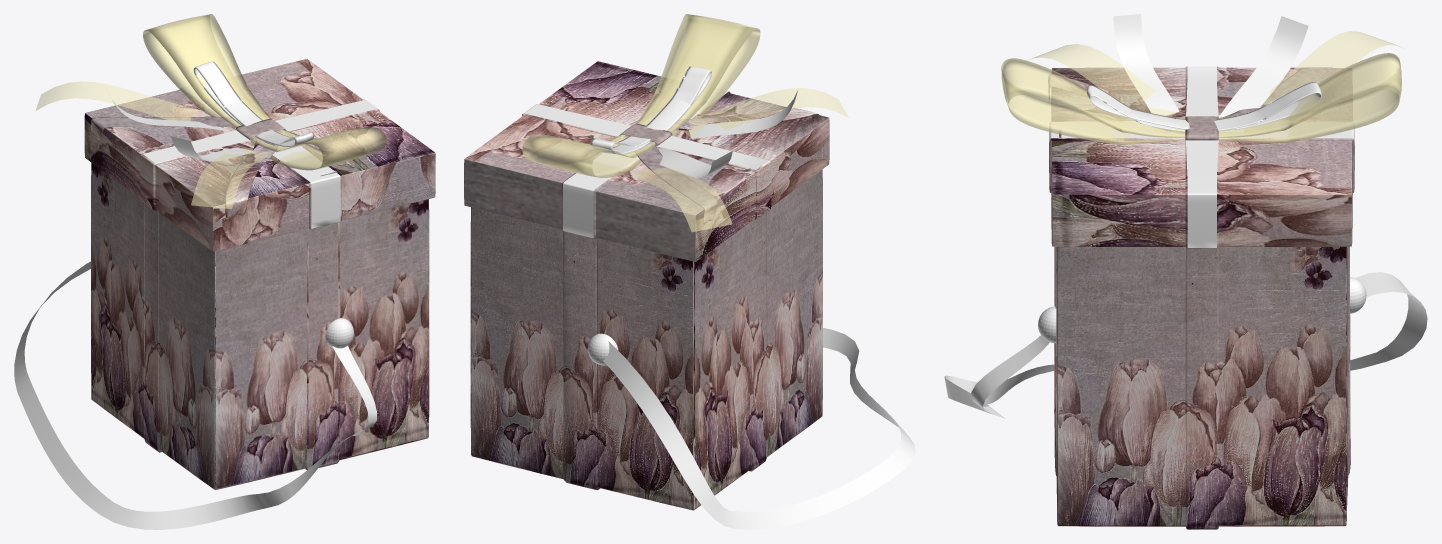
The model's file is cajita1_NoComp.glb.
3 views of the same model, side by side, from view 1: azimuth 30°, elevation 25°; view 2: azimuth 150°, elevation 25°; view 3: azimuth 270°, elevation 25° (orthographic). The views are drawn at different scales.
Visible parts, largest first — view 1: polySurface13, polySurface8, BezierCurve.004, polySurface8.003, polySurface8.005, polySurface8.004, BezierCurve.003, BezierCurve.002, polySurface8.001, BezierCurve.001, Sphere, BezierCurve (+1 smaller); view 2: polySurface13, polySurface8, BezierCurve.004, polySurface8.004, polySurface8.005, polySurface8.003, BezierCurve.002, BezierCurve.003, polySurface8.002, BezierCurve.001, BezierCurve, polySurface8.001 (+1 smaller); view 3: polySurface13, polySurface8, polySurface8.005, polySurface8.003, polySurface8.004, BezierCurve.004, BezierCurve.002, BezierCurve, BezierCurve.003, BezierCurve.001, polySurface8.001, polySurface8.002 (+1 smaller).
Boxes of the visible parts, x1,y1,x2,y2 form: polySurface13: [91, 163, 429, 490]; polySurface8: [84, 59, 435, 251]; BezierCurve.004: [14, 261, 377, 529]; polySurface8.003: [143, 14, 271, 129]; polySurface8.005: [143, 86, 377, 228]; polySurface8.004: [250, 127, 386, 170]; BezierCurve.003: [35, 81, 198, 120]; BezierCurve.002: [191, 147, 271, 209]; polySurface8.001: [193, 61, 262, 125]; BezierCurve.001: [170, 136, 256, 161]; Sphere: [325, 318, 353, 348]; BezierCurve: [112, 100, 230, 131]; polySurface13: [470, 169, 822, 510]; polySurface8: [464, 61, 829, 261]; BezierCurve.004: [603, 328, 915, 529]; polySurface8.004: [636, 14, 760, 135]; polySurface8.005: [524, 89, 768, 238]; polySurface8.003: [522, 134, 656, 177]; BezierCurve.002: [683, 88, 848, 140]; BezierCurve.003: [630, 167, 732, 232]; polySurface8.002: [645, 66, 711, 141]; BezierCurve.001: [689, 90, 797, 138]; BezierCurve: [659, 148, 732, 177]; polySurface8.001: [590, 136, 650, 154]; polySurface13: [1054, 246, 1350, 529]; polySurface8: [1048, 66, 1354, 248]; polySurface8.005: [1049, 66, 1354, 247]; polySurface8.003: [1218, 53, 1401, 143]; polySurface8.004: [1001, 58, 1185, 144]; BezierCurve.004: [944, 272, 1427, 418]; BezierCurve.002: [1027, 44, 1181, 116]; BezierCurve: [1218, 16, 1308, 118]; BezierCurve.003: [1263, 31, 1404, 104]; BezierCurve.001: [1113, 14, 1179, 115]; polySurface8.001: [1214, 82, 1321, 131]; polySurface8.002: [1086, 85, 1246, 132].
Bounding box in the file's own units: 1.53 × 1.65 × 1.74.
5 materials, 1 textured.
